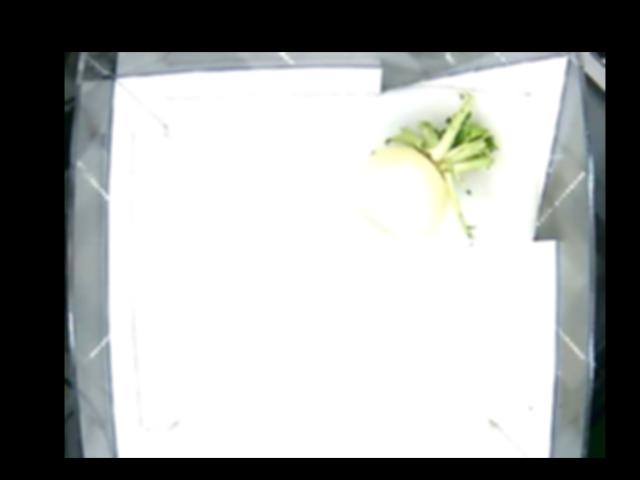Mooli: (345, 89, 495, 247)
